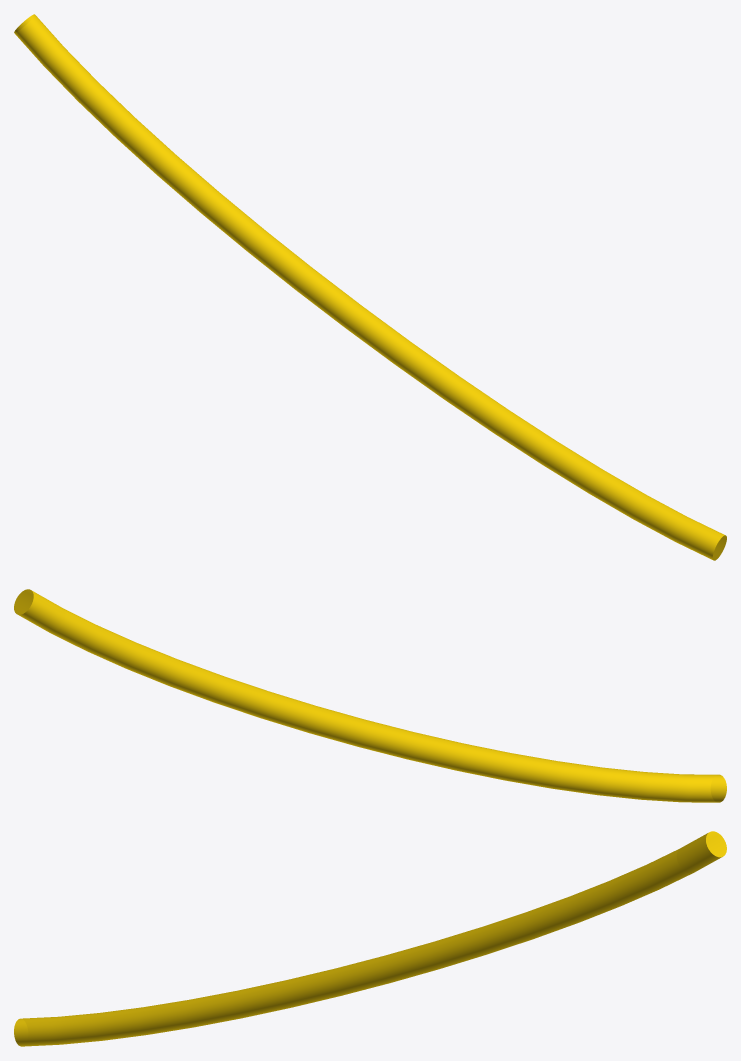
Rendered from Event_421127236_track_52.fbx.
3 renders of one model, top to bottom at view 1: azimuth 90°, elevation 25°; view 2: azimuth 150°, elevation 25°; view 3: azimuth 270°, elevation 25°, orthographic.
Parts seen in each view (by area): view 1: Model; view 2: Model; view 3: Model.
Boxes of the visible parts, x1,y1,x2,y2 form: Model: [14, 14, 726, 560]; Model: [14, 589, 726, 802]; Model: [14, 831, 726, 1046].
Size of the model in its own units: 0.6021 by 0.5953 by 1.02.
